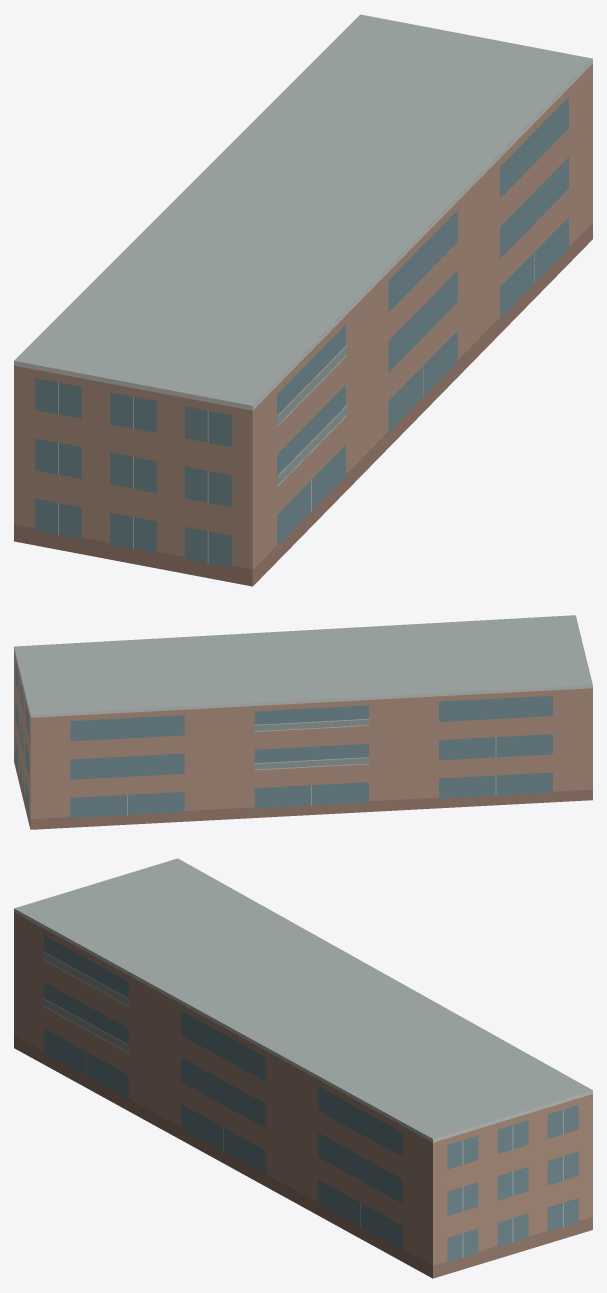
File: survey-upis-33004979.glb
3 views of the same model, one above another, from view 1: azimuth 30°, elevation 25°; view 2: azimuth 150°, elevation 25°; view 3: azimuth 270°, elevation 25° (orthographic). The views are drawn at different scales.
Parts seen in each view (by area): view 1: survey-upis-33004979.tmp; view 2: survey-upis-33004979.tmp; view 3: survey-upis-33004979.tmp.
Part boxes in pixels (x1,y1,x2,y2): survey-upis-33004979.tmp: (14, 14, 592, 586); survey-upis-33004979.tmp: (14, 615, 592, 829); survey-upis-33004979.tmp: (14, 858, 592, 1278).
Size of the model in its own units: 39.44 by 9.15 by 34.38.
